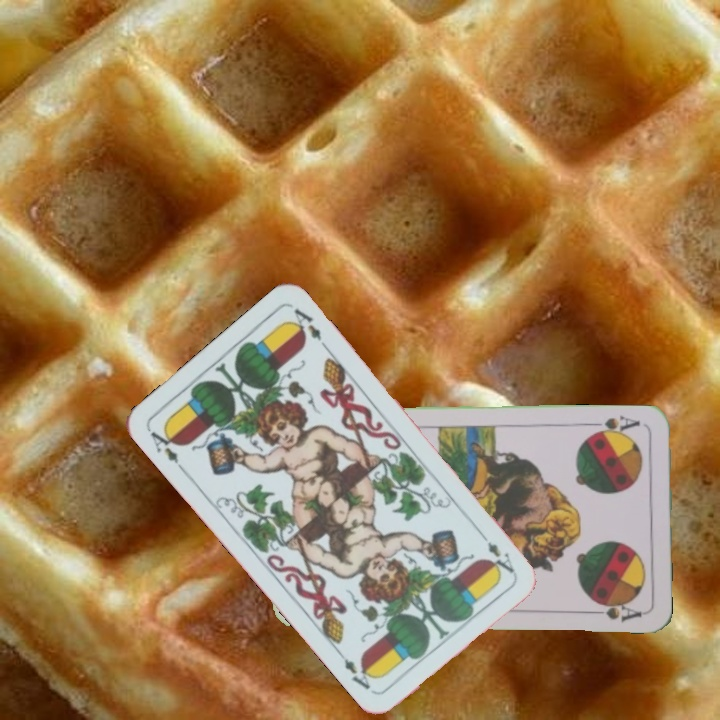EA: (474, 526, 518, 576), (146, 423, 188, 475)
SA: (588, 412, 642, 439)
